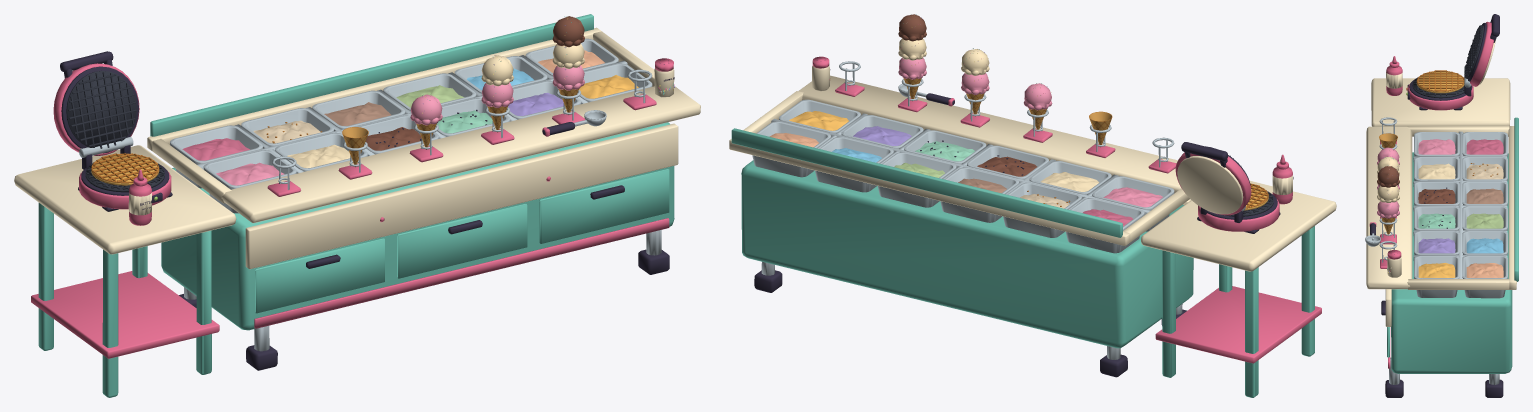
Rendered from IceCreamPreparation.glb.
3 views of the same model, side by side, from view 1: azimuth 30°, elevation 25°; view 2: azimuth 150°, elevation 25°; view 3: azimuth 270°, elevation 25° (orthographic). The views are drawn at different scales.
Parts seen in each view (by area): view 1: PrepCounter_ROOT_Mesh, WaffleStation_ROOT_Mesh, Lid_HINGE_Mesh, WaffleMaker_ROOT_Mesh, Upper plate grid_Mesh, CookedWaffle_ROOT_Mesh, Removable tub.006, Removable tub, Tub_2_2_Cookie cream_Mesh, Removable tub.008, Removable tub.009, Removable tub.001 (+27 smaller); view 2: PrepCounter_ROOT_Mesh, WaffleStation_ROOT_Mesh, Lid_HINGE_Mesh, WaffleMaker_ROOT_Mesh, Removable tub.006, Removable tub.010, Tub_2_2_Cookie cream_Mesh, Removable tub.011, Removable tub.009, Removable tub.008, Removable tub, Tub_1_4_Mint_Mesh (+18 smaller); view 3: PrepCounter_ROOT_Mesh, WaffleStation_ROOT_Mesh, WaffleMaker_ROOT_Mesh, Lid_HINGE_Mesh, Removable tub.011, CookedWaffle_ROOT_Mesh, Removable tub.005, Tub_1_4_Mint_Mesh, Tub_1_3_Chocolate_Mesh, Tub_2_2_Cookie cream_Mesh, Removable tub.009, Removable tub.001 (+30 smaller).
Boxes of the visible parts, x1,y1,x2,y2 form: PrepCounter_ROOT_Mesh: (147,14,700,370); WaffleStation_ROOT_Mesh: (14,145,236,397); Lid_HINGE_Mesh: (53,51,139,155); WaffleMaker_ROOT_Mesh: (78,136,172,211); Upper plate grid_Mesh: (68,72,136,148); CookedWaffle_ROOT_Mesh: (91,153,159,185); Removable tub.006: (170,125,262,188); Removable tub: (203,150,296,213); Tub_2_2_Cookie cream_Mesh: (241,108,333,146); Removable tub.008: (312,90,405,129); Removable tub.009: (383,73,476,110); Removable tub.001: (275,132,367,171); PrepCounter_ROOT_Mesh: (729,75,1193,377); WaffleStation_ROOT_Mesh: (1141,180,1336,397); Lid_HINGE_Mesh: (1175,142,1251,215); WaffleMaker_ROOT_Mesh: (1197,190,1280,233); Removable tub.006: (1066,198,1144,253); Removable tub.010: (815,136,893,192); Tub_2_2_Cookie cream_Mesh: (1003,182,1081,237); Removable tub.011: (752,121,831,177); Removable tub.009: (877,152,956,207); Removable tub.008: (940,167,1019,222); Removable tub: (1092,176,1174,231); Tub_1_4_Mint_Mesh: (904,130,986,163); PrepCounter_ROOT_Mesh: (1366,117,1518,397); WaffleStation_ROOT_Mesh: (1371,78,1510,126); WaffleMaker_ROOT_Mesh: (1406,66,1473,110); Lid_HINGE_Mesh: (1466,14,1499,86); Removable tub.011: (1462,255,1507,298); CookedWaffle_ROOT_Mesh: (1416,70,1464,93); Removable tub.005: (1414,255,1459,297); Tub_1_4_Mint_Mesh: (1414,206,1459,230); Tub_1_3_Chocolate_Mesh: (1414,181,1459,205); Tub_2_2_Cookie cream_Mesh: (1462,156,1507,181); Removable tub.009: (1462,206,1507,230); Removable tub.001: (1414,156,1459,180).
Size of the model in its own units: 3.4 by 1.55 by 1.08.
Materials: 25 (1 with a texture image).
